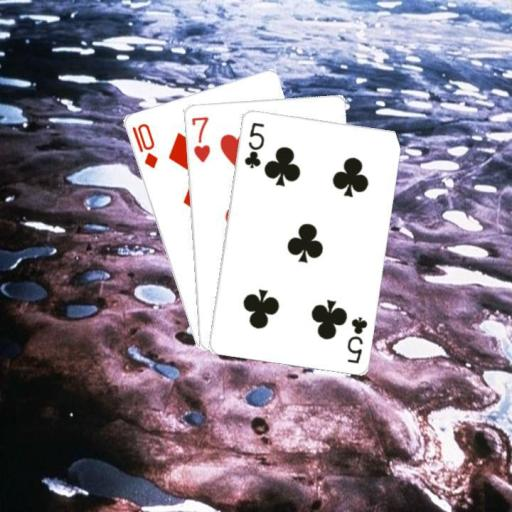10D: (128, 119, 159, 170)
5C: (344, 313, 369, 364), (241, 118, 265, 169)
7H: (188, 113, 211, 164)
